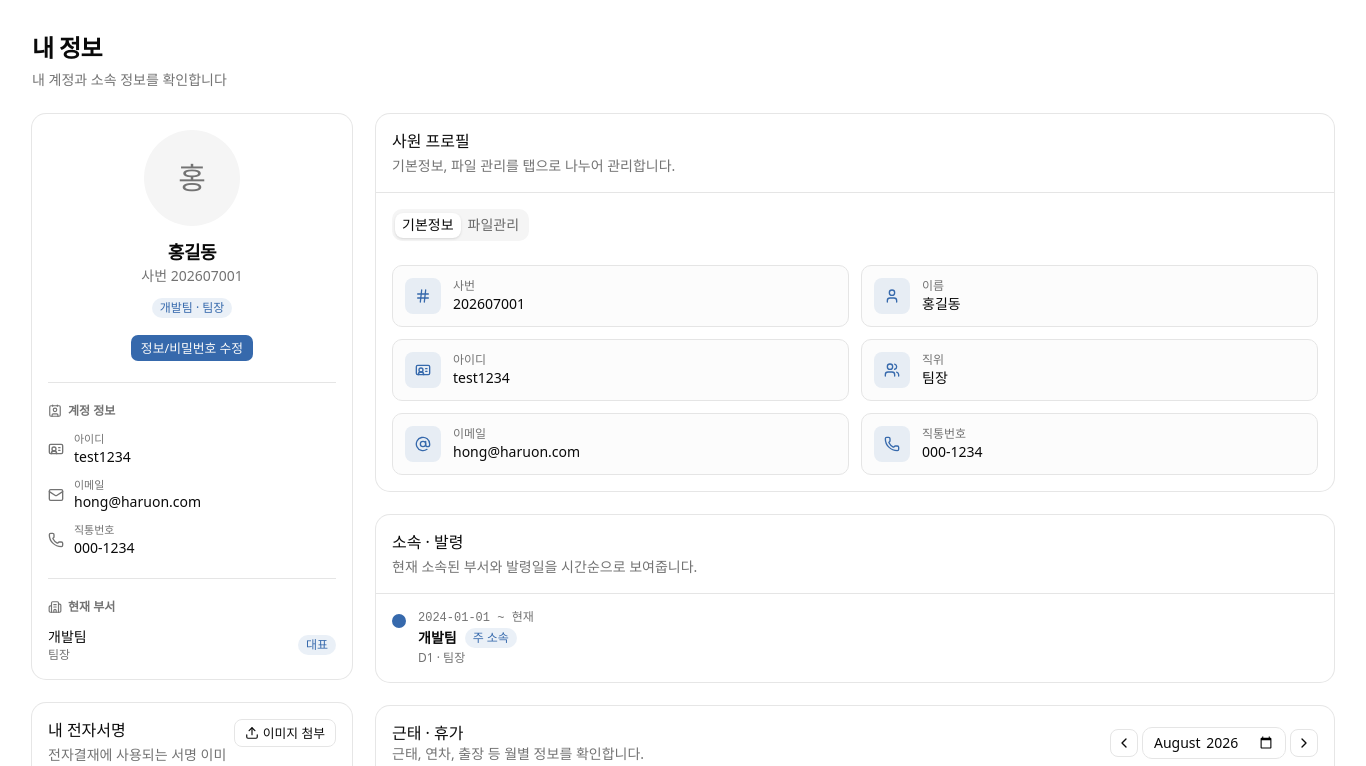
Scenario: MyInfoPage - 성공 렌더 › UpdateMeDialog 제출 성공 시 성공 토스트가 뜨고 다이얼로그가 닫힌다
This screenshot has width=1366, height=766.
Click the button "정보/비밀번호 수정" at (192, 348), box [130,334,254,362]
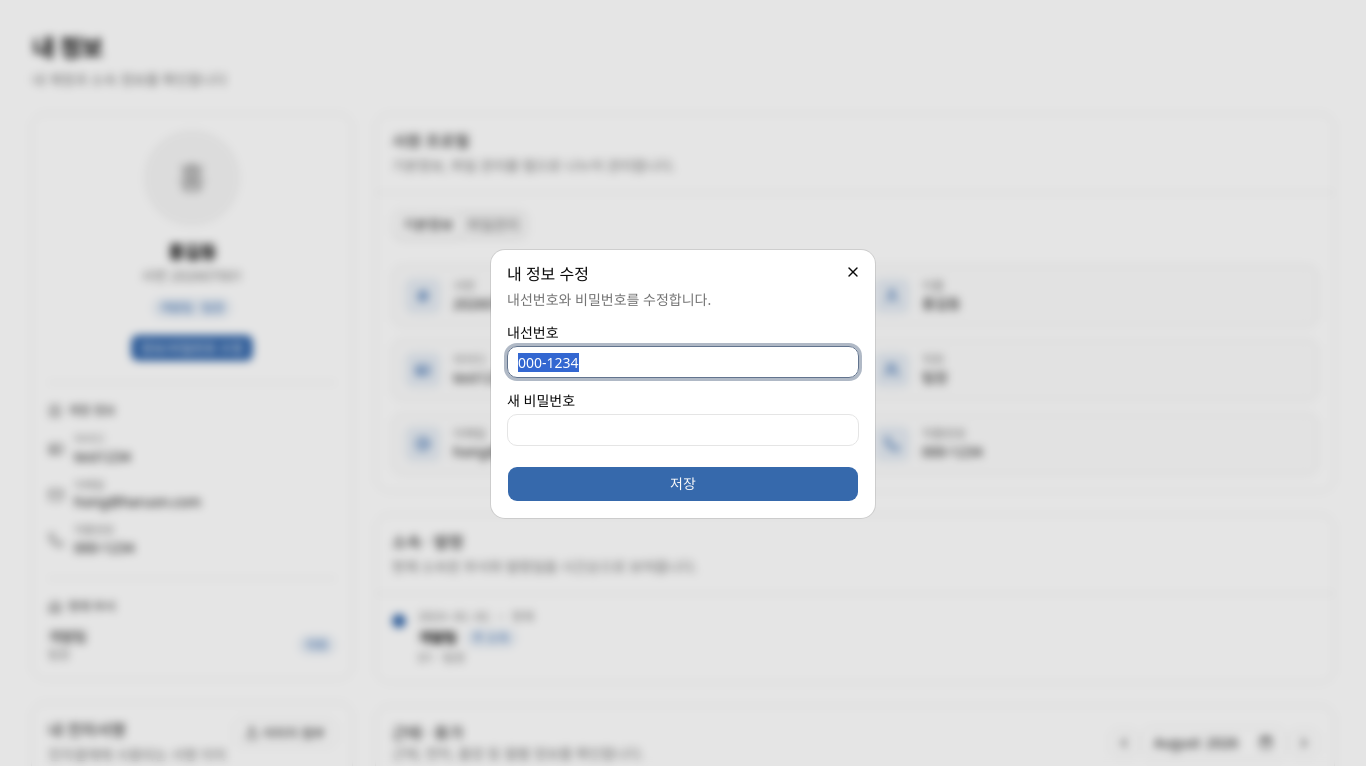
Result: the heading "내 정보 수정" is shown at [507,263,589,285]
Type "newPass1!" into the password field labelled "새 비밀번호" at (683, 430), box [507,414,859,446]
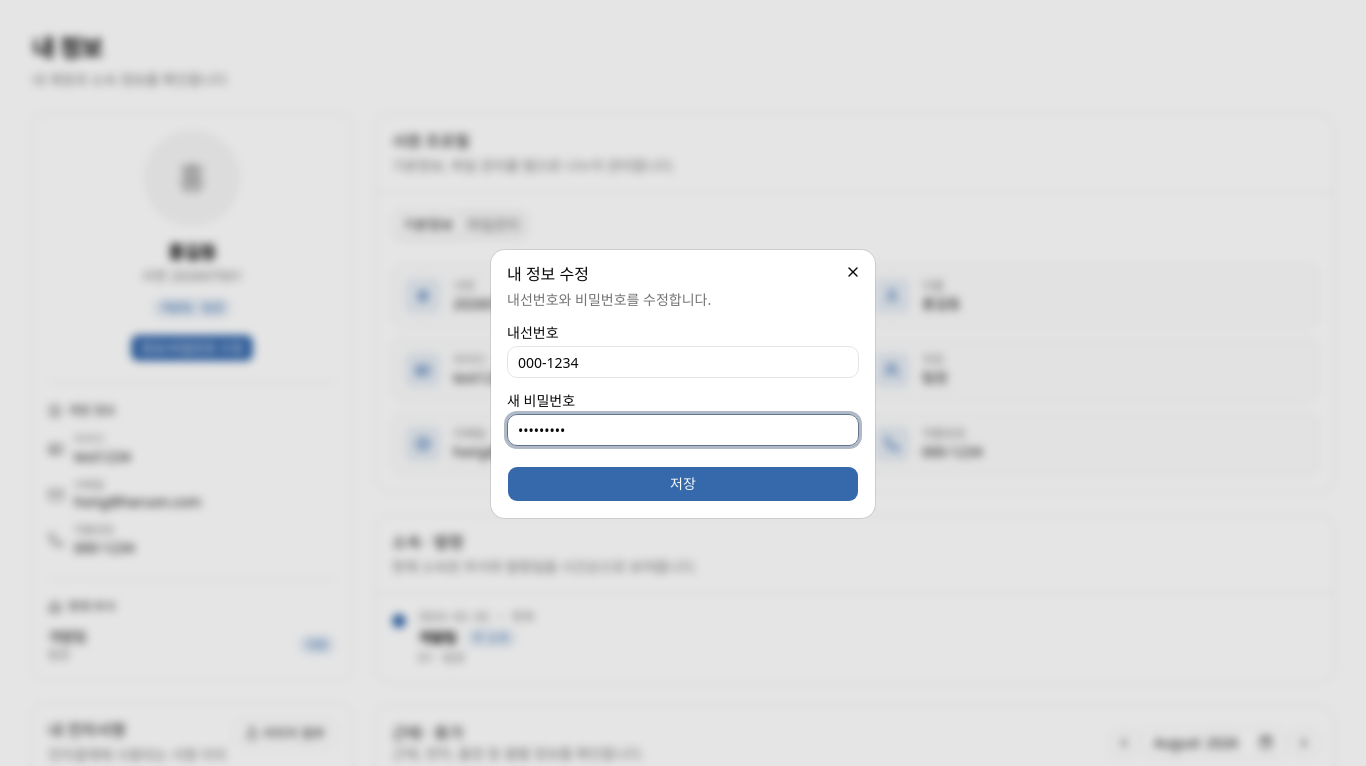
Click the button "저장" at (683, 484), box [507,466,859,502]
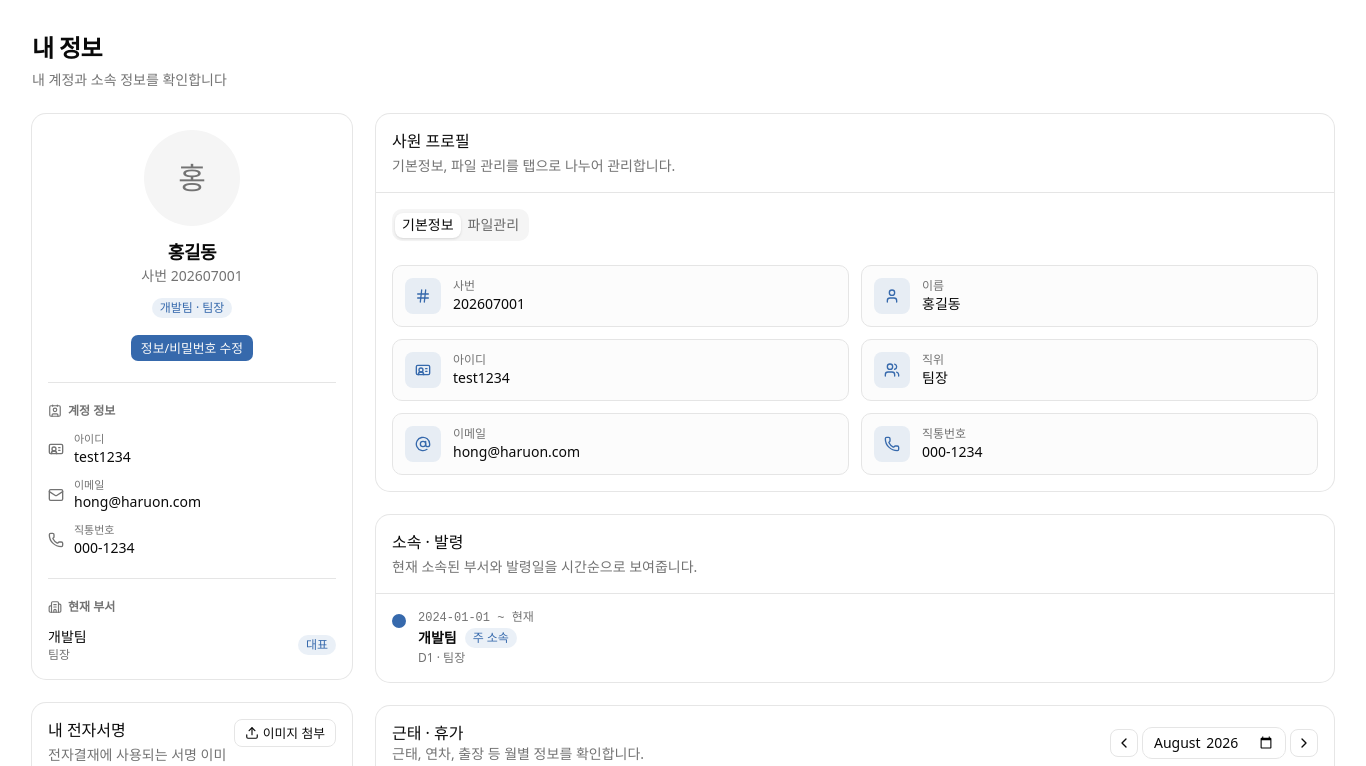
Result: the heading "내 정보 수정" is gone
